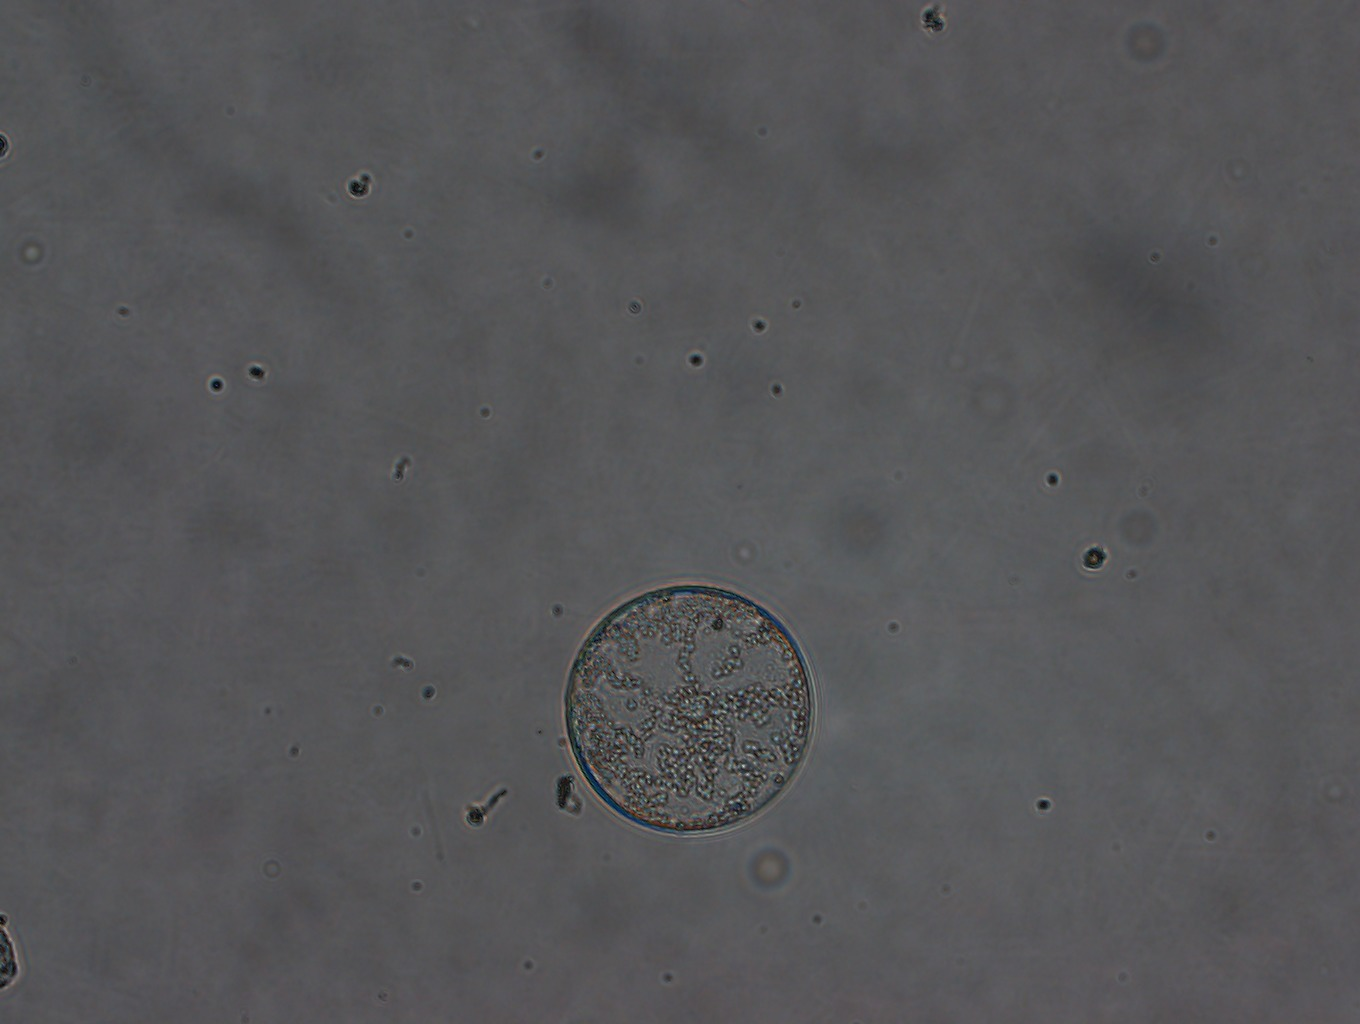coscinodiscus: (560, 581, 818, 837)
